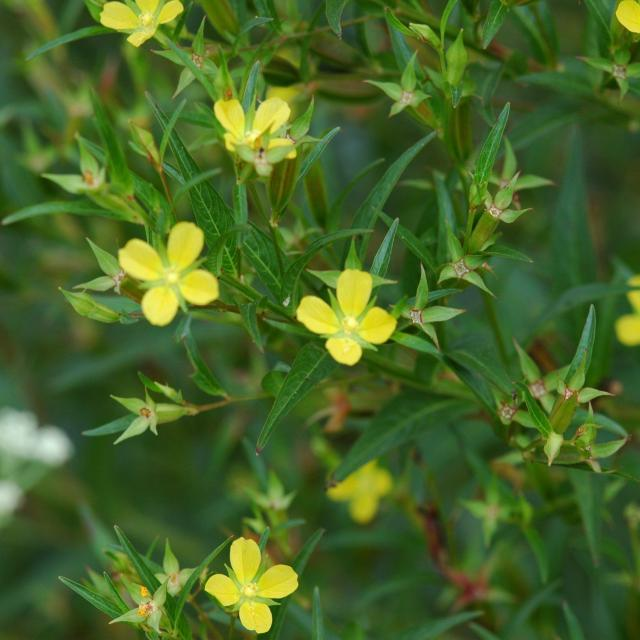organic waste: (287, 263, 400, 369), (115, 225, 222, 330), (204, 522, 300, 638), (215, 93, 305, 172), (96, 1, 192, 48)
